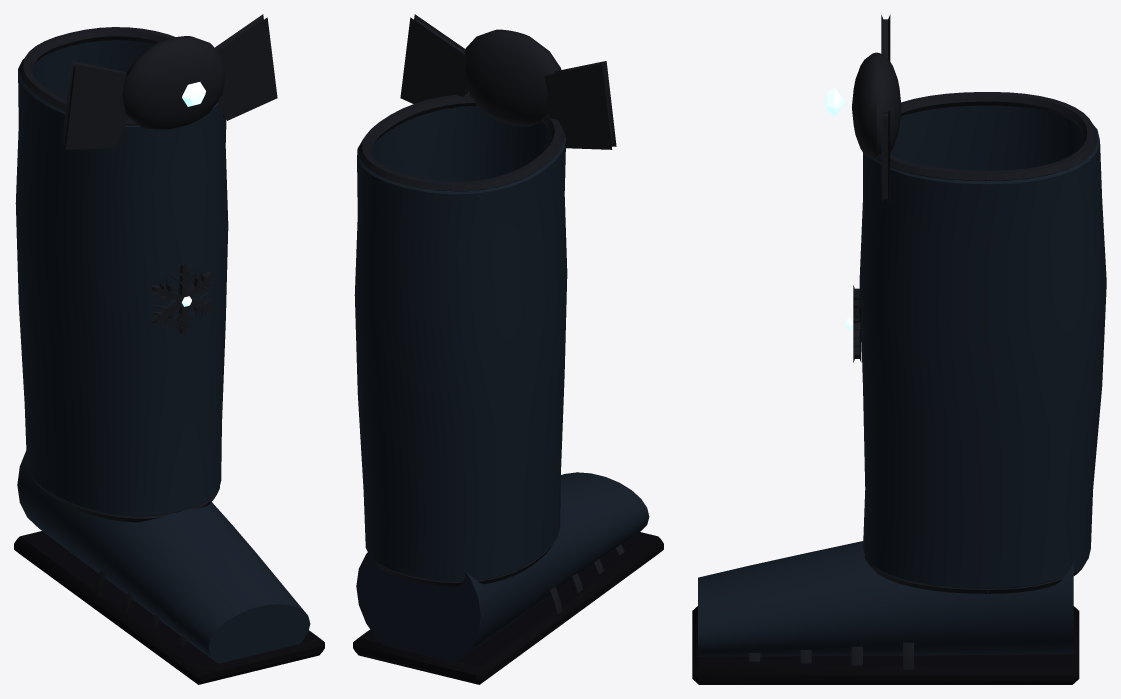
Rendered from esc_mirrorless_oracle_boots.glb.
3 views of the same model, side by side, from view 1: azimuth 30°, elevation 25°; view 2: azimuth 150°, elevation 25°; view 3: azimuth 270°, elevation 25° (orthographic). The views are drawn at different scales.
Visible parts, largest first — view 1: esc_mirrorless_oracle_boots, AT_foot_L; view 2: esc_mirrorless_oracle_boots, AT_foot_L; view 3: esc_mirrorless_oracle_boots, AT_foot_L.
Part boxes in pixels (x1=…): esc_mirrorless_oracle_boots: x1=15, y1=14, x2=277, y2=522; AT_foot_L: x1=14, y1=451, x2=324, y2=684; esc_mirrorless_oracle_boots: x1=354, y1=14, x2=616, y2=586; AT_foot_L: x1=353, y1=472, x2=663, y2=684; esc_mirrorless_oracle_boots: x1=825, y1=14, x2=1106, y2=593; AT_foot_L: x1=692, y1=541, x2=1079, y2=684.
Size of the model in its own units: 0.2244 by 0.5768 by 0.3641.
